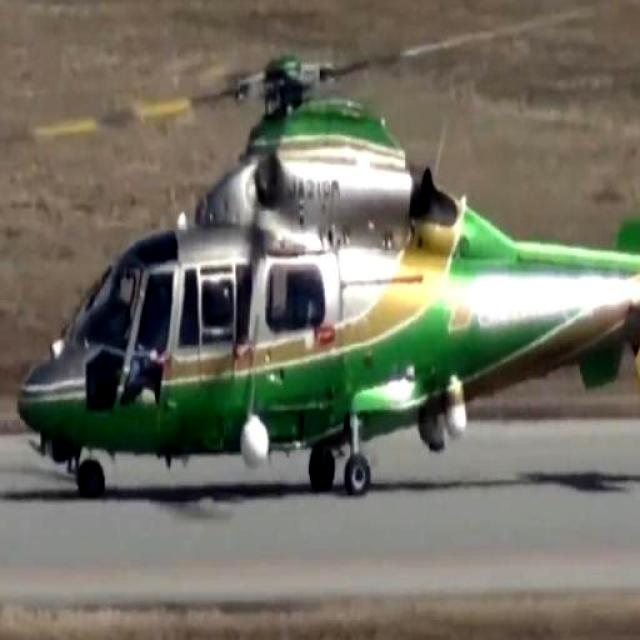drone: (4, 0, 640, 511)
